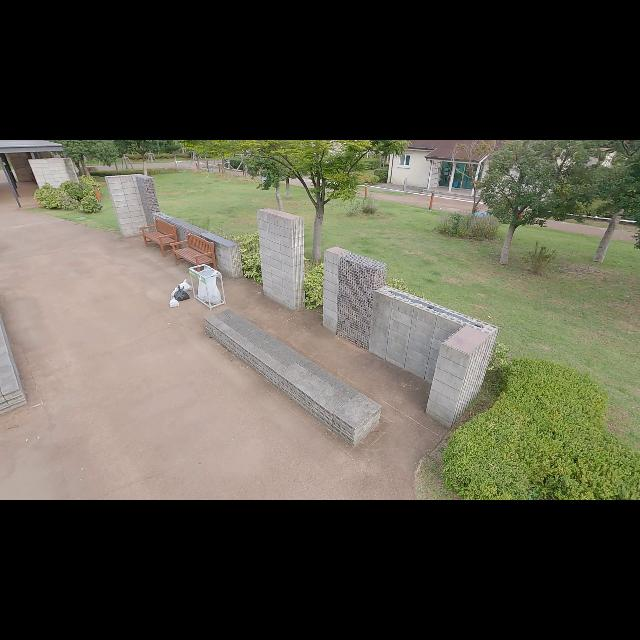trash: (170, 278, 194, 294), (174, 284, 190, 302), (168, 296, 180, 308)
